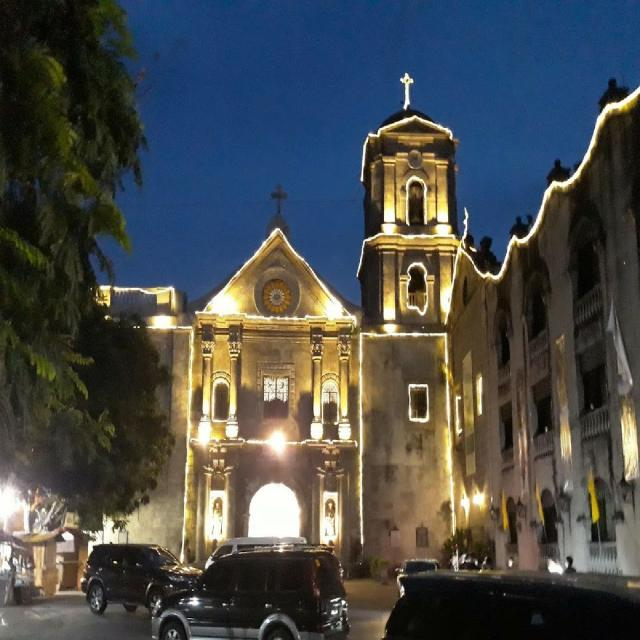San Agustin Church: (79, 60, 473, 579)
